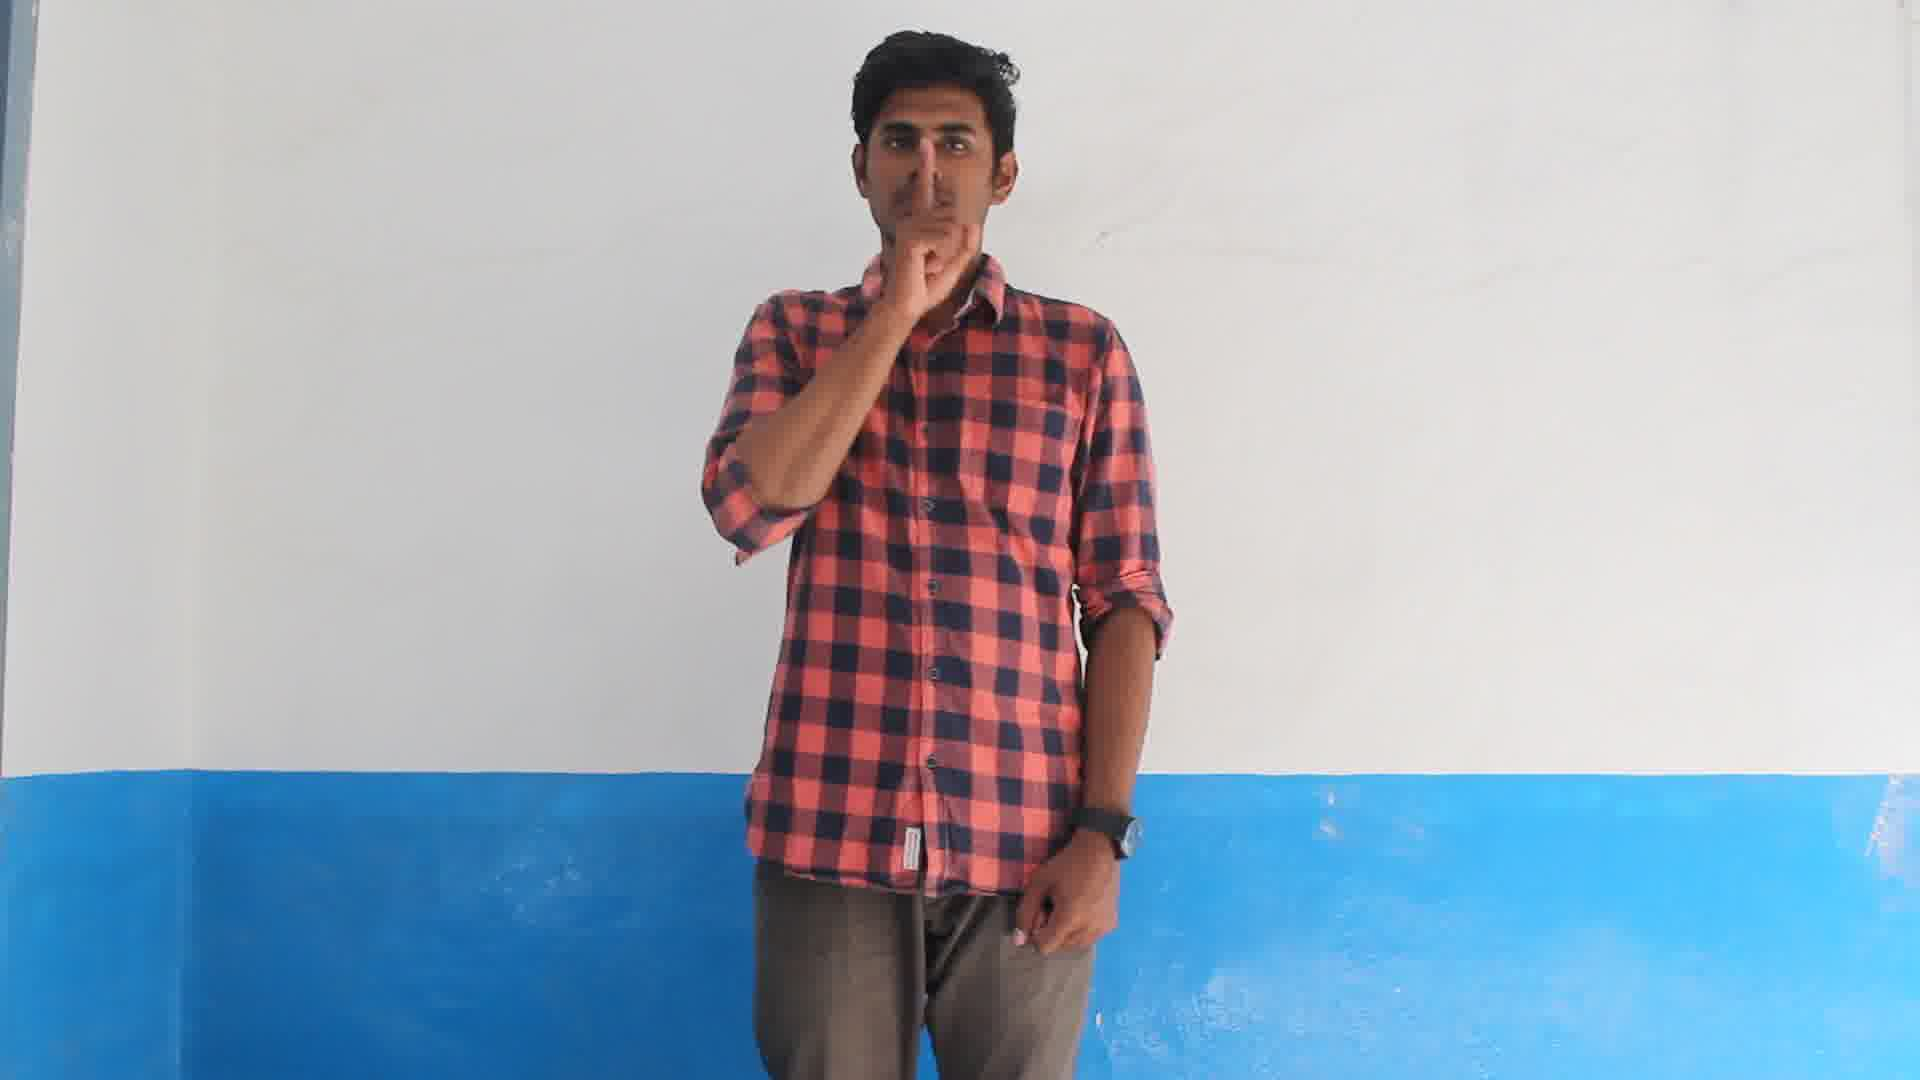quiet: (860, 102, 1027, 360)
